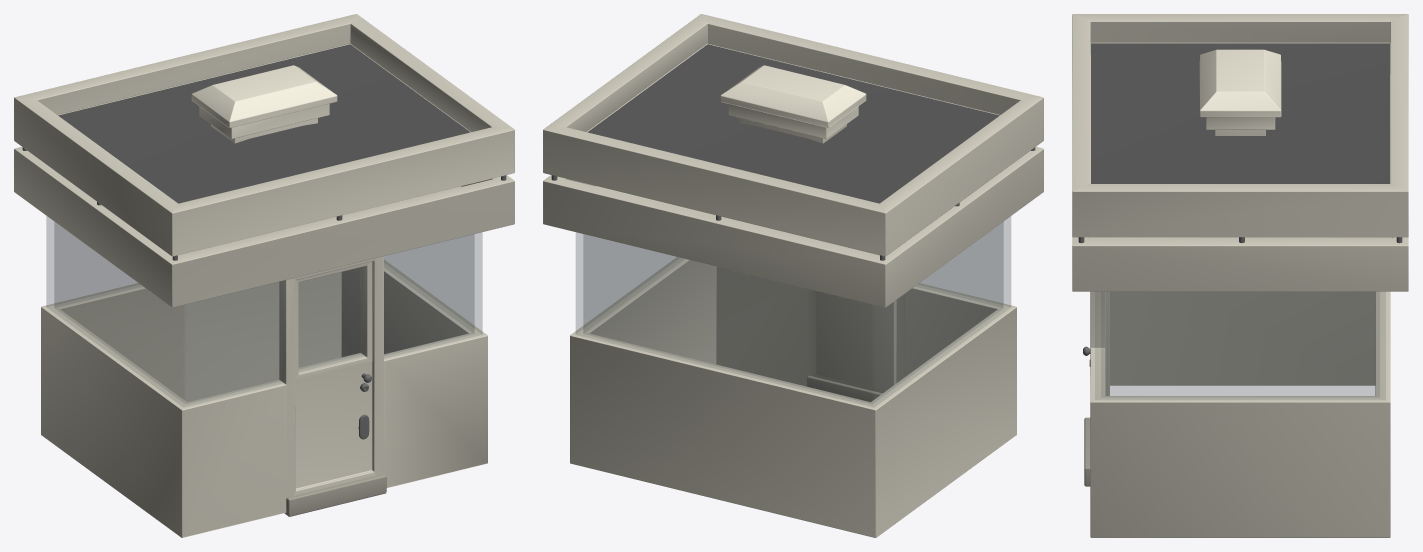
Rendered from tingzhi.FBX.
The picture shows the model from 3 angles, left to right: view 1: azimuth 30°, elevation 25°; view 2: azimuth 150°, elevation 25°; view 3: azimuth 270°, elevation 25°; orthographic projection. The views are drawn at different scales.
Parts seen in each view (by area): view 1: Guardroom_03; view 2: Guardroom_03; view 3: Guardroom_03.
Boxes of the visible parts, x1,y1,x2,y2 form: Guardroom_03: (14, 14, 514, 537); Guardroom_03: (543, 14, 1043, 537); Guardroom_03: (1072, 14, 1408, 537).
Size of the model in its own units: 2801 by 2875 by 2242.
